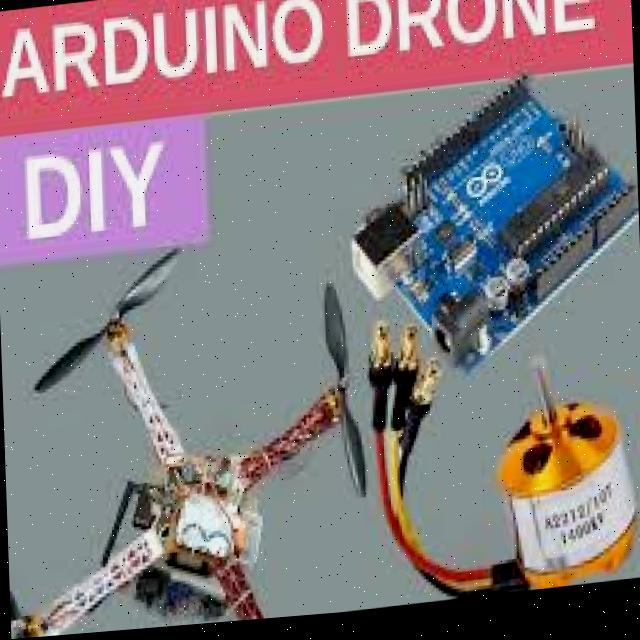drone: (0, 235, 377, 640)
